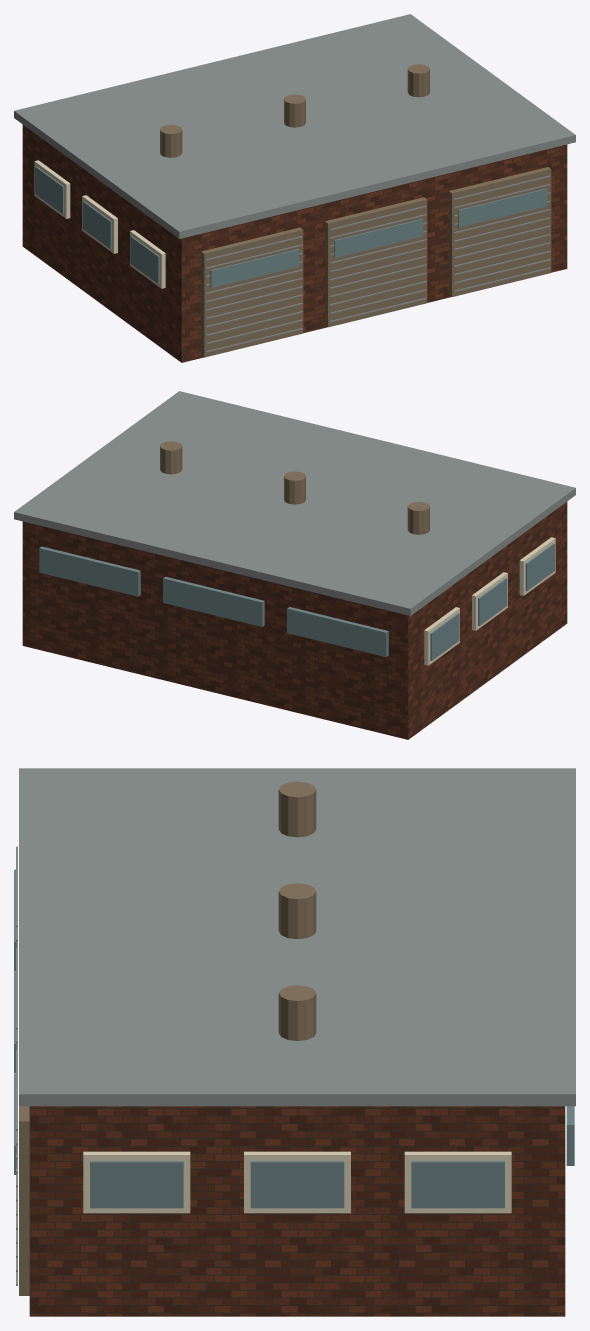
Rendered from garage.glb.
The picture shows the model from 3 angles, top to bottom: view 1: azimuth 30°, elevation 25°; view 2: azimuth 150°, elevation 25°; view 3: azimuth 270°, elevation 25°; orthographic projection. The views are drawn at different scales.
Visible parts, largest first — view 1: workshop roof, workshop, roof vent, workshop glazing, workshop side window; view 2: workshop roof, workshop, workshop glazing, roof vent, workshop side window; view 3: workshop roof, workshop, workshop glazing, roof vent, workshop side window.
Boxes of the visible parts, x1,y1,x2,y2 form: workshop roof: (14, 14, 575, 352); workshop: (22, 124, 567, 362); roof vent: (160, 64, 551, 357); workshop glazing: (35, 166, 547, 288); workshop side window: (34, 160, 165, 288); workshop roof: (14, 391, 575, 615); workshop: (22, 501, 567, 739); workshop glazing: (39, 543, 554, 660); roof vent: (160, 441, 429, 534); workshop side window: (424, 537, 555, 665); workshop roof: (16, 768, 575, 1285); workshop: (29, 1106, 565, 1316); workshop glazing: (14, 869, 574, 1208); roof vent: (19, 781, 316, 1295); workshop side window: (83, 1151, 511, 1213).
Bounding box in the file's own units: 14.4 × 5.5 × 10.49.
Materials: 5 (1 with a texture image).
